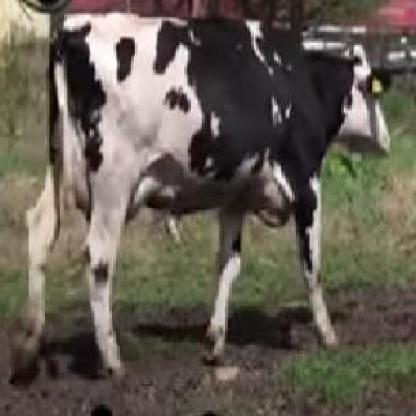cow: (11, 14, 390, 389)
